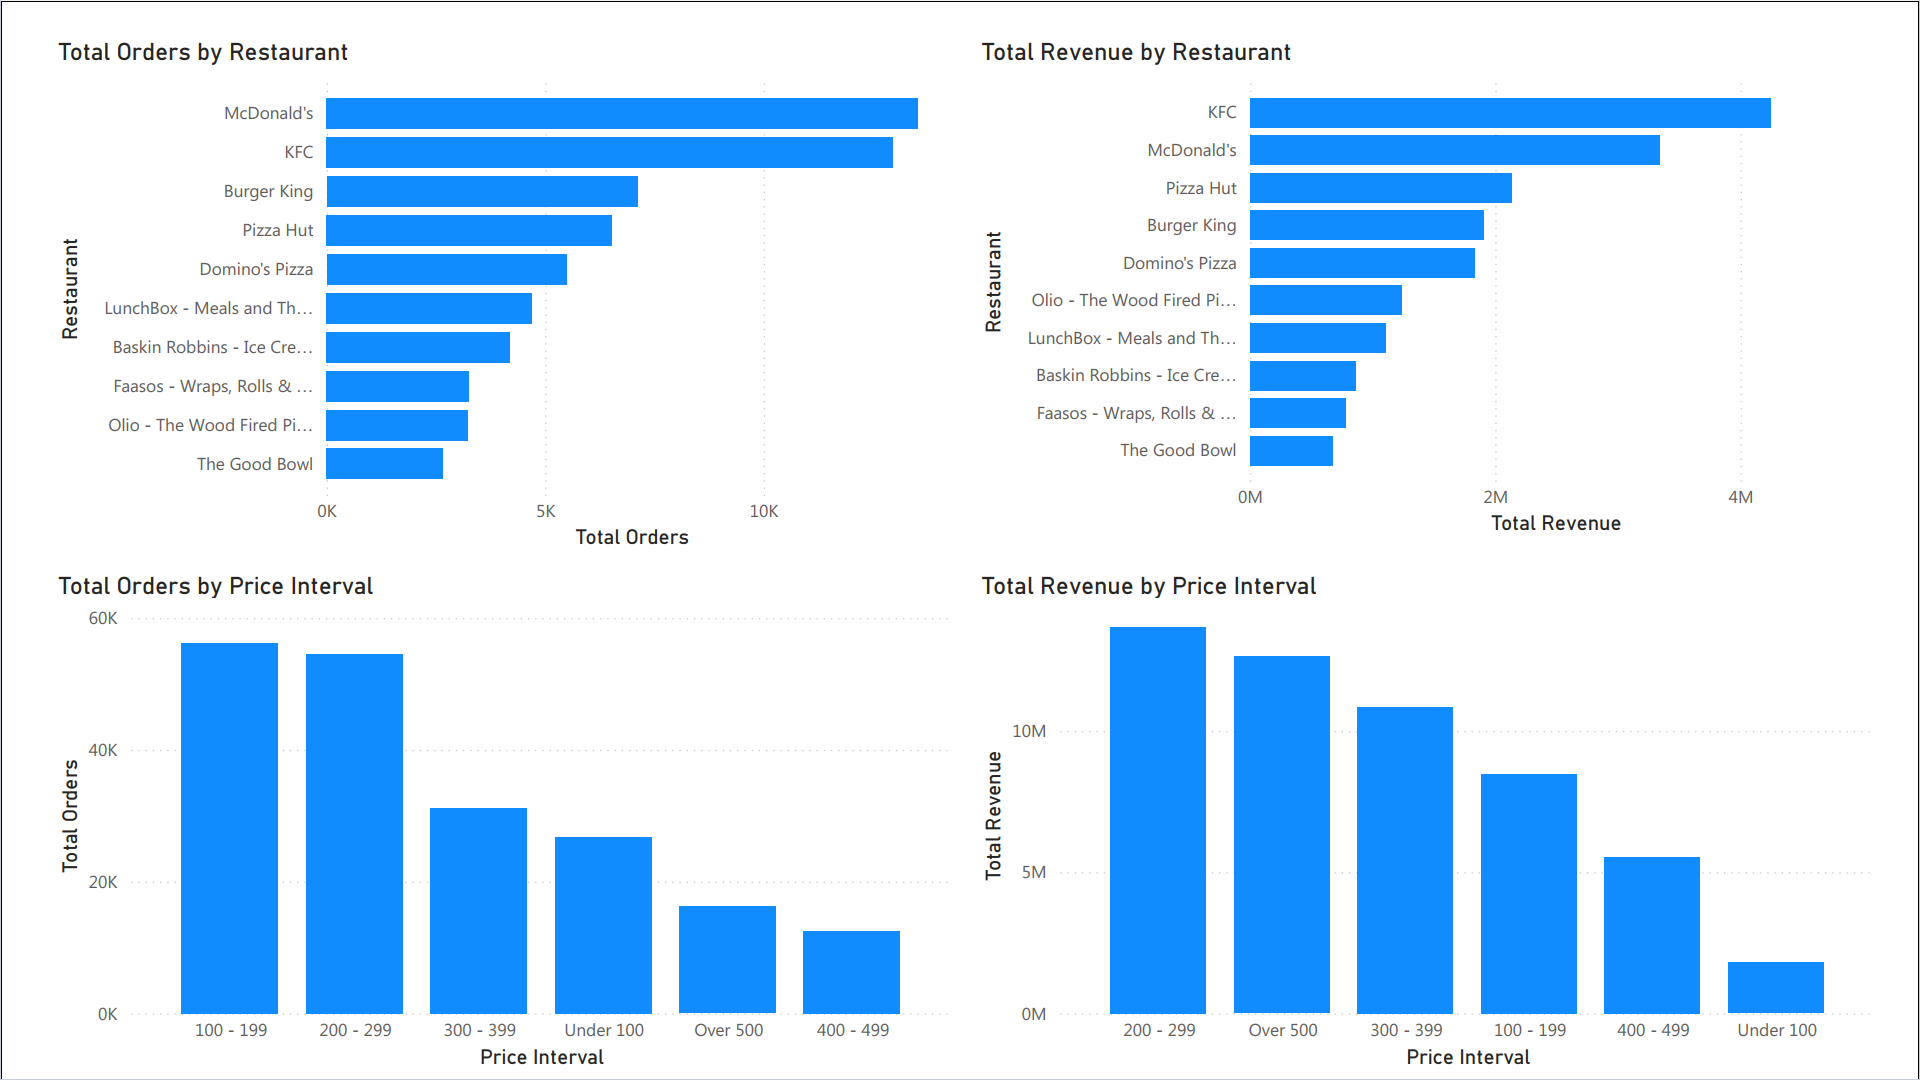

What the dashboard file says about the page in this screenshot:
{"tool":"powerbi","page":{"name":"Misc Analysis","canvas":[1280,720],"ordinal":3},"visuals":[{"type":"clusteredBarChart","fields":{"Category":["restaurants.restaurant_name"],"Y":["Sum(restaurants.Restaurant-wise Total Orders)"]},"box":[9.7,0,630.3,359.9],"z":0},{"type":"clusteredBarChart","fields":{"Category":["restaurants.restaurant_name"],"Y":["Sum(restaurants.Restaurant-wise Total Revenue)"]},"box":[649.7,0,630.3,350.2],"z":1000},{"type":"clusteredColumnChart","fields":{"Y":["Sum(price_intervals.Interval-wise Total Orders)"],"Category":["price_intervals.Price Interval"]},"box":[10,370,630,350],"z":2000},{"type":"clusteredColumnChart","fields":{"Category":["price_intervals.Price Interval"],"Y":["Sum(price_intervals.Interval-wise Total Revenue)"]},"box":[650,370,630,350],"z":3000}]}

Visuals, with their boxes in screenshot pixels (x1, y1, x2, y2), scaled from the page's 1280x720 canvas onto the 1920x1080 screenshot:
clusteredBarChart - restaurants.restaurant_name x Sum(restaurants.Restaurant-wise Total Orders): crop(15, 0, 960, 540)
clusteredBarChart - restaurants.restaurant_name x Sum(restaurants.Restaurant-wise Total Revenue): crop(975, 0, 1919, 525)
clusteredColumnChart - Sum(price_intervals.Interval-wise Total Orders) x price_intervals.Price Interval: crop(15, 555, 960, 1079)
clusteredColumnChart - price_intervals.Price Interval x Sum(price_intervals.Interval-wise Total Revenue): crop(975, 555, 1919, 1079)
